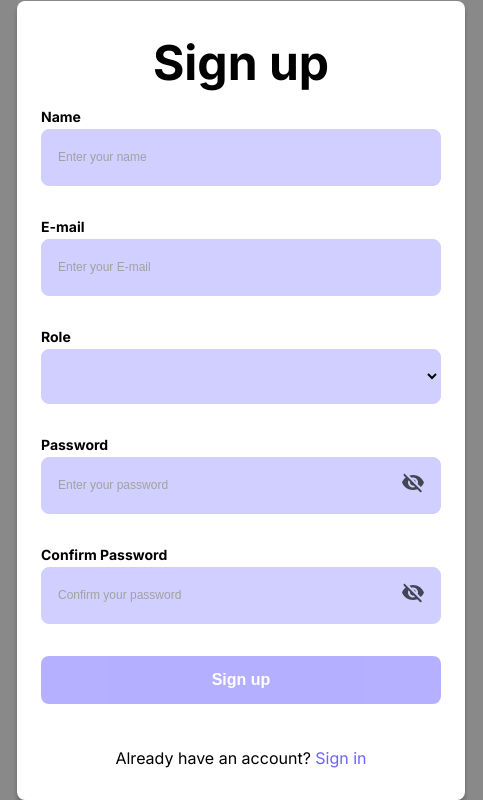
Test case: SignupPage › shows validation errors when submitting invali form
Type "J" into the field with test id "name". click: (241, 157)
box: [41,128,441,186]
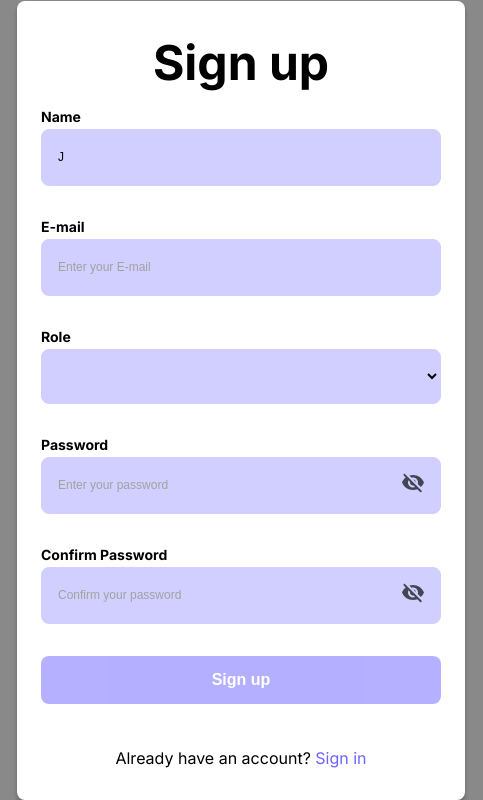
Type "john@example" into the field with test id "email". click: (241, 267)
box: [41,238,441,296]
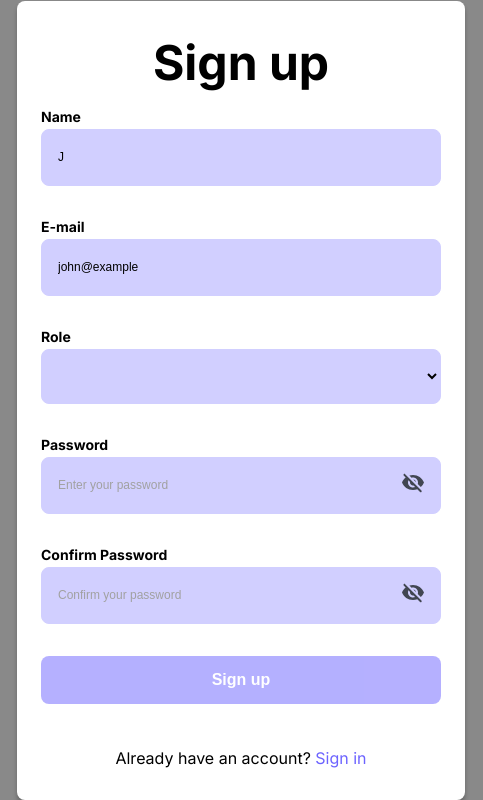
Type "Password1" into the password field with test id "password". click: (241, 485)
box: [41,456,441,514]
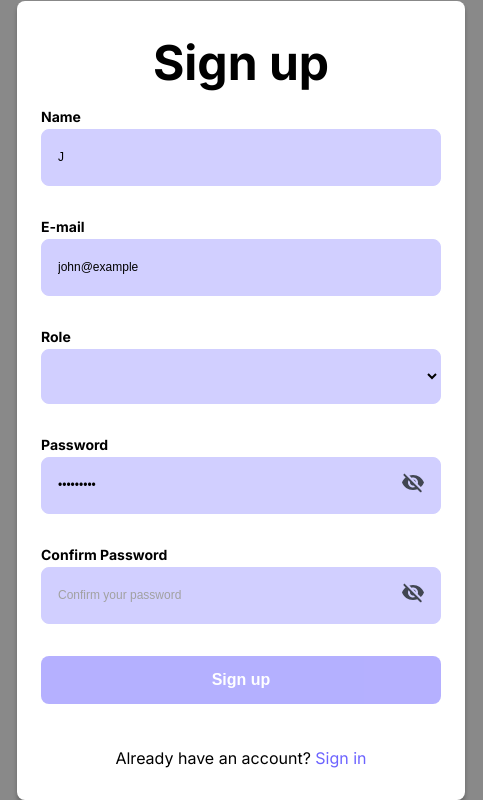
Type "Password123!" into the password field with test id "confirmPassword". click: (241, 595)
box: [41,566,441,624]
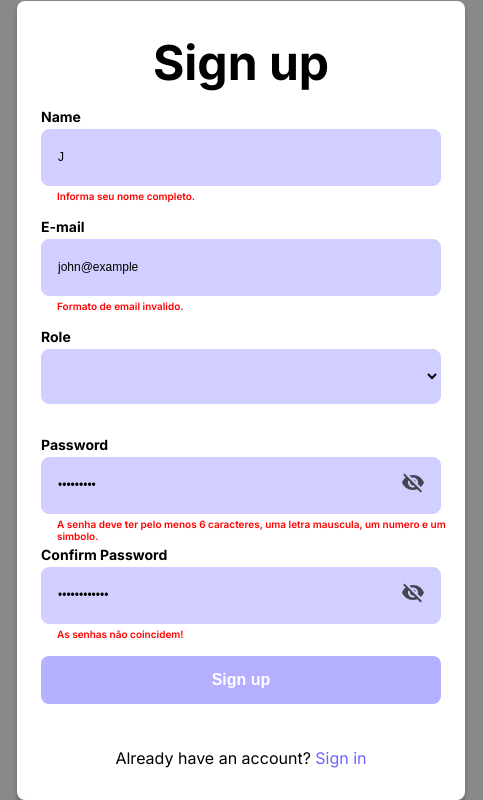
Now the text with test id "error-name" reads "Informa seu nome completo.", box [57,190,195,202]
Now the text with test id "error-email" reads "Formato de email invalido.", box [57,300,184,312]
Now the text with test id "error-password" shows "A senha deve ter pelo menos 6 caracteres, uma letra mauscula, um numero e um simbolo.", box [57,518,446,542]
